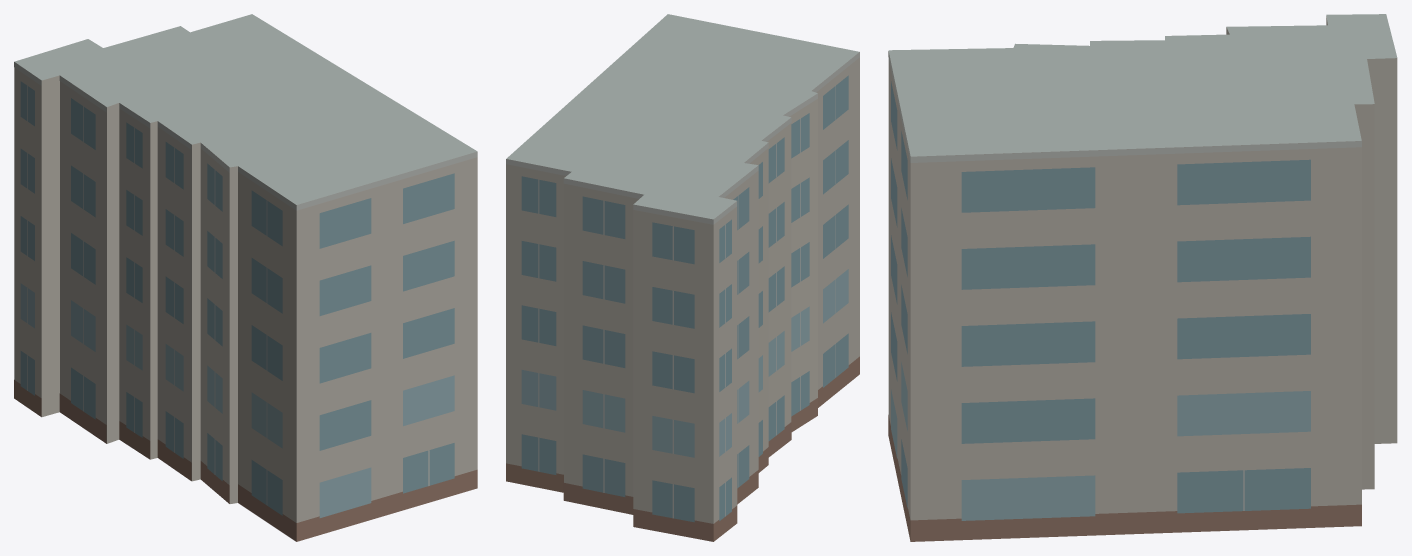
Rendered from survey-upis-32724995.glb.
3 views of the same model, side by side, from view 1: azimuth 30°, elevation 25°; view 2: azimuth 150°, elevation 25°; view 3: azimuth 270°, elevation 25° (orthographic). The views are drawn at different scales.
Visible parts, largest first — view 1: survey-upis-32724995.tmp; view 2: survey-upis-32724995.tmp; view 3: survey-upis-32724995.tmp.
Part boxes in pixels (left/top/right/bottom): survey-upis-32724995.tmp: left=14, top=14, right=477, bottom=541; survey-upis-32724995.tmp: left=506, top=14, right=859, bottom=541; survey-upis-32724995.tmp: left=888, top=14, right=1397, bottom=541.
Size of the model in its own units: 11.7 by 14.72 by 17.64.
